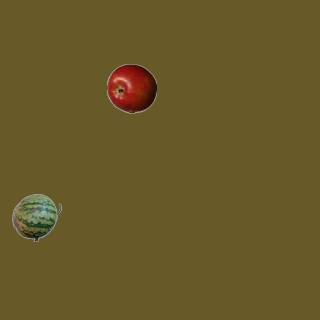Apple Braeburn: (106, 63, 156, 113)
Watermelon: (11, 192, 61, 242)
